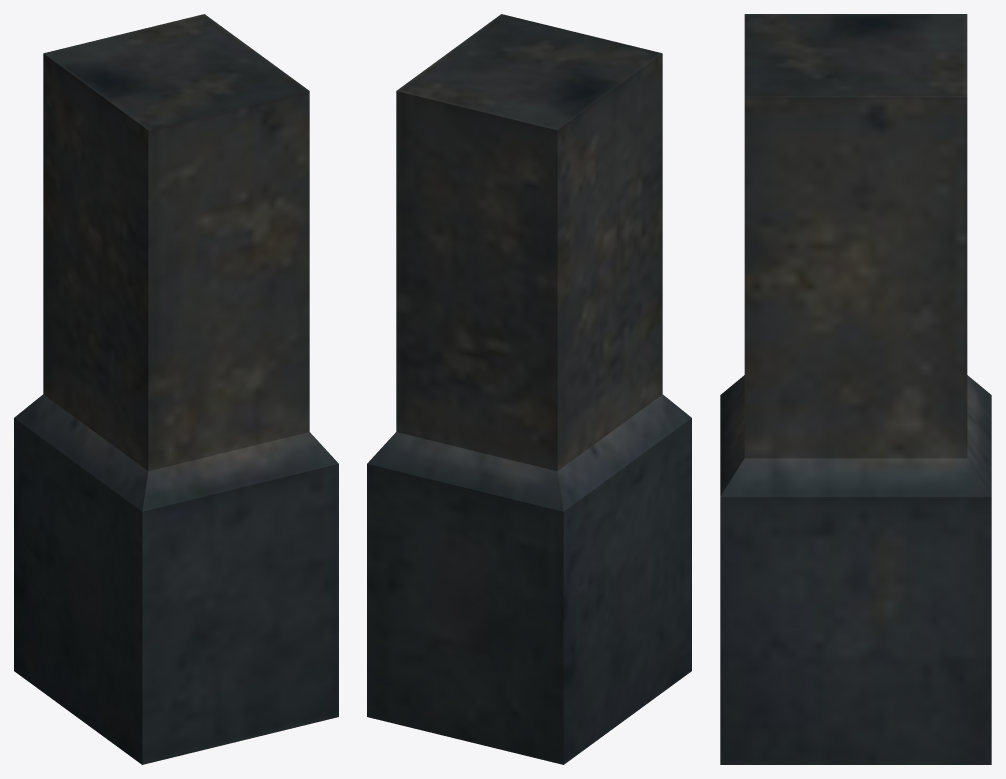
File: Pillar.FBX
3 renders of one model, left to right at view 1: azimuth 30°, elevation 25°; view 2: azimuth 150°, elevation 25°; view 3: azimuth 270°, elevation 25°, orthographic. The views are drawn at different scales.
Parts seen in each view (by area): view 1: Pillar; view 2: Pillar; view 3: Pillar.
Boxes of the visible parts, <box> form: Pillar: <box>14,14,338,764</box>; Pillar: <box>367,14,691,764</box>; Pillar: <box>720,14,991,764</box>.
Size of the model in its own units: 154 by 467 by 174.
